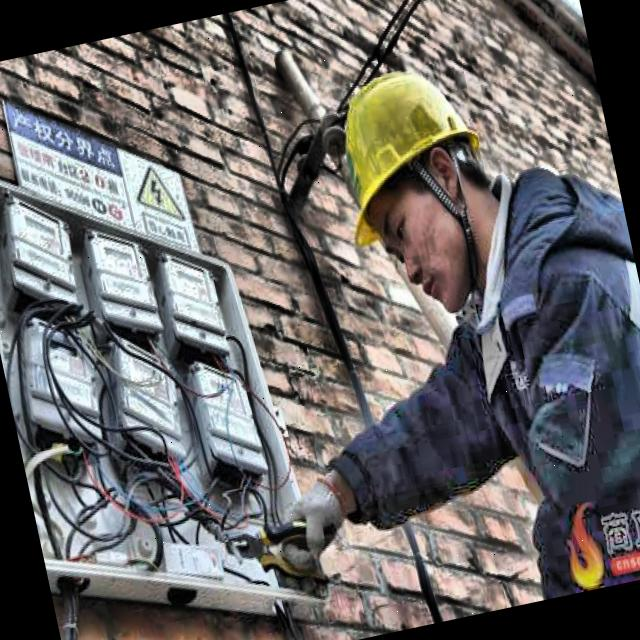helmet: (303, 32, 525, 329)
